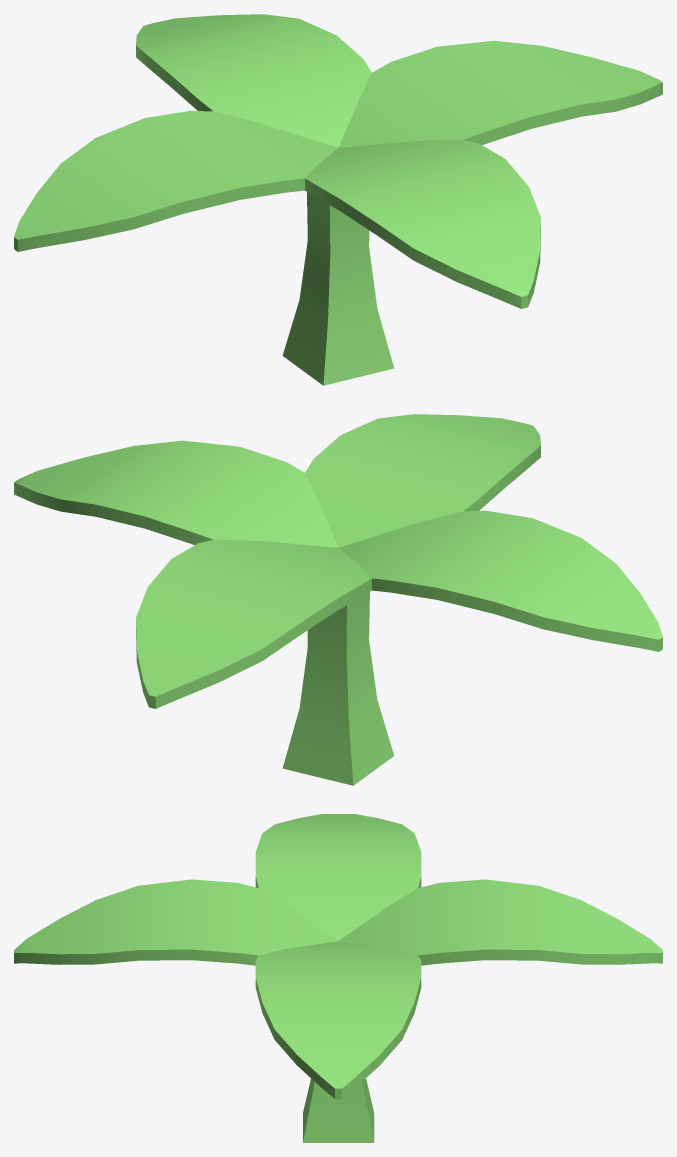
Rendered from Plant.fbx.
3 views of the same model, one above another, from view 1: azimuth 30°, elevation 25°; view 2: azimuth 150°, elevation 25°; view 3: azimuth 270°, elevation 25° (orthographic). The views are drawn at different scales.
Visible parts, largest first — view 1: Plant; view 2: Plant; view 3: Plant.
Part boxes in pixels (x1,y1,x2,y2): Plant: [14, 14, 662, 385]; Plant: [14, 414, 662, 785]; Plant: [14, 814, 662, 1142].
Size of the model in its own units: 3.26 by 1.18 by 3.26.
